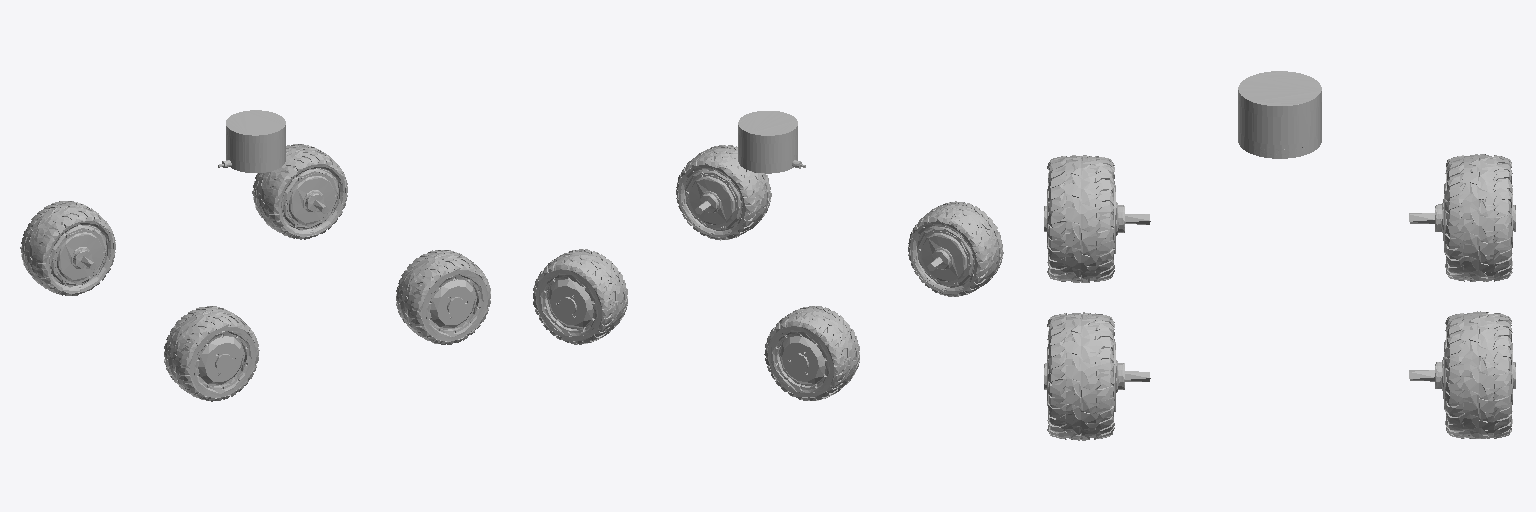
The robot description file, URDF, robot "scout_mini":
<?xml version="1.0"?>
<!-- =================================================================================== -->
<!-- |    This document was autogenerated by xacro from mini.xacro                     | -->
<!-- |    EDITING THIS FILE BY HAND IS NOT RECOMMENDED                                 | -->
<!-- =================================================================================== -->
<robot name="scout_mini" xmlns:xacro="http://www.ros.org/wiki/xacro">
  
   <link name="base_footprint"/>
   <joint name="base_footprint_joint" type="fixed">
    <parent link="base_footprint"/>
    <child link="base_link"/>
    <origin xyz="0.0 0.0 0.08" rpy="0 0 0"/>
  </joint>
  <link name="base_link">
    <visual>
      <origin rpy="1.57 0 1.57" xyz="0 0 0.0"/>
      <geometry>
        <mesh filename="package://scout_simulation/robots/scout_mini/meshes/scout_mini_base_link.dae"/>
      </geometry>
    </visual>
    <collision>
      <origin rpy="1.57 0 1.57" xyz="0 0 0"/>
      <geometry>
        <mesh filename="package://scout_simulation/robots/scout_mini/meshes/scout_mini_base_link.dae"/>
      </geometry>
    </collision>
  </link>
  
  <link name="inertial_link">
    <inertial>
      <mass value="60"/>
      <origin xyz="0.0 0.0 0.0"/>
      <inertia ixx="2.288641" ixy="0" ixz="0" iyy="5.103976" iyz="0" izz="3.431465"/>
    </inertial>
  </link>
  <joint name="inertial_joint" type="fixed">
    <origin rpy="0 0 0" xyz="0 0 0"/>
    <parent link="base_link"/>
    <child link="inertial_link"/>
  </joint>
  
  <link name="front_left_wheel_link">
    <inertial>
      <mass value="3"/>
      <origin xyz="0 0 0"/>
      <inertia ixx="0.7171" ixy="0" ixz="0" iyy="0.7171" iyz="0" izz="0.1361"/>
    </inertial>
    <visual>
      <origin rpy="0 0 0" xyz="0 0 0"/>
      <geometry>
        <mesh filename="package://scout_simulation/robots/scout_mini/meshes/wheel.STL"/>
      </geometry>
      <material name="">
        <color
          rgba="0.75294 0.75294 0.75294 1" />
      </material>
    </visual>
    <collision>
      <origin rpy="0 0 0" xyz="0 0 0"/>
      <geometry>
        <mesh filename="package://scout_simulation/robots/scout_mini/meshes/wheel.STL"/>
      </geometry>
    </collision>
  </link>
  
  <joint name="front_left_wheel" type="fixed">
    <parent link="base_link"/>
    <child link="front_left_wheel_link"/>
    <origin rpy="-1.57 0 0" xyz="0.2319755 0.2082515 -0.100998"/>
    <axis rpy="0 0 0" xyz="0 0 -1"/>
  </joint>
  
  
  <link name="rear_left_wheel_link">
    <inertial>
      <mass value="3"/>
      <origin xyz="0 0 0"/>
      <inertia ixx="0.7171" ixy="0" ixz="0" iyy="0.7171" iyz="0" izz="0.1361"/>
    </inertial>
    <visual>
      <origin rpy="0 0 0" xyz="0 0 0"/>
      <geometry>
        <mesh filename="package://scout_simulation/robots/scout_mini/meshes/wheel.STL"/>
      </geometry>
      <material name="">
        <color
          rgba="0.75294 0.75294 0.75294 1" />
      </material>
    </visual>
    <collision>
      <origin rpy="0 0 0" xyz="0 0 0"/>
      <geometry>
        <mesh filename="package://scout_simulation/robots/scout_mini/meshes/wheel.STL"/>
      </geometry>
    </collision>
  </link>
  
  <joint name="rear_left_wheel" type="fixed">
    <parent link="base_link"/>
    <child link="rear_left_wheel_link"/>
    <origin rpy="-1.57 0 0" xyz="-0.2319755 0.2082515 -0.100998"/>
    <axis rpy="0 0 0" xyz="0 0 -1"/>
  </joint>
  <link name="front_right_wheel_link">
    <inertial>
      <mass value="3"/>
      <origin xyz="0 0 0"/>
      <inertia ixx="0.7171" ixy="0" ixz="0" iyy="0.7171" iyz="0" izz="0.1361"/>
    </inertial>
    <visual>
      <origin rpy="0 0 0" xyz="0 0 0"/>
      <geometry>
        <mesh filename="package://scout_simulation/robots/scout_mini/meshes/wheel.STL"/>
      </geometry>
      <material name="">
        <color
          rgba="0.75294 0.75294 0.75294 1" />
      </material>
    </visual>
    <collision>
      <origin rpy="0 0 0" xyz="0 0 0"/>
      <geometry>
        <mesh filename="package://scout_simulation/robots/scout_mini/meshes/wheel.STL"/>
      </geometry>
    </collision>
  </link>
  <joint name="front_right_wheel" type="fixed">
    <parent link="base_link"/>
    <child link="front_right_wheel_link"/>
    <origin rpy="1.57 0 0" xyz="0.2319755 -0.2082515 -0.099998"/>
    <axis rpy="0 0 0" xyz="0 0 -1"/>
  </joint>
  <link name="rear_right_wheel_link">
    <inertial>
      <mass value="3"/>
      <origin xyz="0 0 0"/>
      <inertia ixx="0.7171" ixy="0" ixz="0" iyy="0.7171" iyz="0" izz="0.1361"/>
    </inertial>
    <visual>
      <origin rpy="0 0 0" xyz="0 0 0"/>
      <geometry>
        <mesh filename="package://scout_simulation/robots/scout_mini/meshes/wheel.STL"/>
      </geometry>
      <material name="">
        <color
          rgba="0.75294 0.75294 0.75294 1" />
      </material>
    </visual>
    <collision>
      <origin rpy="0 0 0" xyz="0 0 0"/>
      <geometry>
        <mesh filename="package://scout_simulation/robots/scout_mini/meshes/wheel.STL"/>
      </geometry>
    </collision>
  </link>
  <joint name="rear_right_wheel" type="fixed">
    <parent link="base_link"/>
    <child link="rear_right_wheel_link"/>
    <origin rpy="1.57 0 0" xyz="-0.2319755 -0.2082515 -0.099998"/>
    <axis rpy="0 0 0" xyz="0 0 -1"/>
  </joint>


  <gazebo reference="front_left_wheel_link">
    <material>Gazebo/Grey</material>
    <mu1>0.0</mu1>
    <mu2>0.0</mu2>
  </gazebo>

  <gazebo reference="front_right_wheel_link">
    <material>Gazebo/Grey</material>
    <mu1>0.0</mu1>
    <mu2>0.0</mu2>
  </gazebo>

  <gazebo reference="rear_left_wheel_link">
    <material>Gazebo/Grey</material>
    <mu1>0.0</mu1>
    <mu2>0.0</mu2>
  </gazebo>

  <gazebo reference="rear_right_wheel_link">
    <material>Gazebo/Grey</material>
    <mu1>0.0</mu1>
    <mu2>0.0</mu2>
  </gazebo>
  
    
  <gazebo reference="base_scan">
    <material>Gazebo/Grey</material>
    <mu1>0.0</mu1>
    <mu2>0.0</mu2>
  </gazebo>

  <joint
    name="base_imu_joint"
    type="fixed">
    <origin
      xyz="0 0 0.0"
      rpy="0 0 0" />
    <parent
      link="base_link" />
    <child
      link="imu_link" />
    <axis
      xyz="0 0 0" />
  </joint>
  
  <link name="imu_link"/>
  
  <gazebo>
    <plugin name="object_controller" filename="libgazebo_ros_planar_move.so">
      <commandTopic>cmd_vel</commandTopic>
      <odometryTopic>odom</odometryTopic>
      <odometryFrame>odom</odometryFrame>
      <odometryRate>20.0</odometryRate>
      <robotBaseFrame>base_link</robotBaseFrame>
    </plugin>
  </gazebo>
  
  <gazebo reference="imu_link">
    <gravity>true</gravity>
    <sensor name="imu_sensor" type="imu">
      <always_on>true</always_on>
      <update_rate>200</update_rate>
      <imu>
          <angular_velocity>
            <x>
              <noise type="gaussian">
                <mean>0.0</mean>
                <stddev>2e-4</stddev>
              </noise>
            </x>
            <y>
              <noise type="gaussian">
                <mean>0.0</mean>
                <stddev>2e-4</stddev>
              </noise>
            </y>
            <z>
              <noise type="gaussian">
                <mean>0.0</mean>
                <stddev>2e-4</stddev>
              </noise>
            </z>
          </angular_velocity>
          <linear_acceleration>
            <x>
              <noise type="gaussian">
                <mean>0.0</mean>
                <stddev>1.7e-2</stddev>
              </noise>
            </x>
            <y>
              <noise type="gaussian">
                <mean>0.0</mean>
                <stddev>1.7e-2</stddev>
              </noise>
            </y>
            <z>
              <noise type="gaussian">
                <mean>0.0</mean>
                <stddev>1.7e-2</stddev>
              </noise>
            </z>
          </linear_acceleration>
      </imu>
      <visualize>true</visualize>
      <plugin name="imu" filename="libgazebo_ros_imu_sensor.so">
        <ros>
          <remapping>~/out:=imu</remapping>
        </ros>
        <frameName>imu_link</frameName>
        <initialOrientationAsReference>false</initialOrientationAsReference>
      </plugin>
      <pose>0 0 0 0 0 </pose>
    </sensor>
  </gazebo>


  <link
    name="base_scan">
    <inertial>
      <origin
        xyz="0 0 0.0"
        rpy="0 0 0" />
      <mass
        value="0.0001" />
      <inertia
        ixx="0.00014024"
        ixy="0"
        ixz="0"
        iyy="0.00013729"
        iyz="0"
        izz="9.3124E-05" />
    </inertial>
    <visual>
      <origin
        xyz="0 0 0"
        rpy="0 0 0" />
      <geometry>
        <mesh
          filename="package://scout_simulation/robots/scout_mini/meshes/velodyne.STL" />
      </geometry>
      <material
        name="">
        <color
          rgba="0.75294 0.75294 0.75294 1" />
      </material>
    </visual>
    <collision>
      <origin
        xyz="0 0 0"
        rpy="0 0 0" />
      <geometry>
        <mesh
          filename="package://scout_simulation/robots/scout_mini/meshes/velodyne.STL" />
      </geometry>
    </collision>
  </link>
  
  <joint
    name="base_scan_joint"
    type="fixed">
    <origin
      xyz="0.0 0 0.15"
      rpy="0 0 0" />
    <parent
      link="base_link" />
    <child
      link="base_scan" />
    <axis
      xyz="0 0 0" />
  </joint>

  <gazebo reference="base_scan">
    <sensor name='velodyne-VLP16' type='ray'>
      <visualize>0</visualize>
        <update_rate>10</update_rate>
          <ray>
            <scan>
            <horizontal>
              <samples>360</samples>
              <resolution>1</resolution>
              <min_angle>-3.14</min_angle>
              <max_angle>3.14</max_angle>
            </horizontal>
            <vertical>
              <samples>16</samples>
              <resolution>1</resolution>
              <min_angle>-0.261799</min_angle>
              <max_angle>0.261799</max_angle>
            </vertical>
          </scan>
          <range>
            <min>0.3</min>
            <max>131</max>
            <resolution>0.001</resolution>
          </range>
          <noise>
            <type>gaussian</type>
            <mean>0</mean>
            <stddev>0</stddev>
          </noise>
        </ray>
        <plugin name='gazebo_ros_laser_controller' filename='libgazebo_ros_velodyne_laser.so'>
          <topicName>/velodyne_points</topicName>
          <frameName>base_scan</frameName>
          <min_range>0.1</min_range>
          <max_range>130.0</max_range>
          <gaussianNoise>0.008</gaussianNoise>
        </plugin>
        <pose>0.125 0 0.2877 0 -0 0</pose>
      </sensor>
    </gazebo>
  
</robot>

--- What the picture shows (computed from the rendered views, not written in the file) ---
The picture shows the robot from 3 angles, left to right: view 1: azimuth 30°, elevation 25°; view 2: azimuth 150°, elevation 25°; view 3: azimuth 270°, elevation 25°; orthographic projection.
Model scout_mini with 9 links and 8 joints (8 fixed), rooted at base_footprint, posed all joints at 0.
Visible links, largest first — view 1: rear_right_wheel_link, rear_left_wheel_link, front_right_wheel_link, front_left_wheel_link, base_scan; view 2: rear_left_wheel_link, front_left_wheel_link, rear_right_wheel_link, front_right_wheel_link, base_scan; view 3: rear_left_wheel_link, front_left_wheel_link, rear_right_wheel_link, front_right_wheel_link, base_scan.
Link boxes in pixels (x1,y1,x2,y2): rear_right_wheel_link: (164,306,259,401); rear_left_wheel_link: (20,201,115,295); front_right_wheel_link: (396,250,490,344); front_left_wheel_link: (252,144,347,239); base_scan: (218,110,285,172); rear_left_wheel_link: (764,306,859,400); front_left_wheel_link: (533,249,627,344); rear_right_wheel_link: (908,201,1003,296); front_right_wheel_link: (676,145,771,240); base_scan: (738,111,805,173); rear_left_wheel_link: (1409,154,1515,281); front_left_wheel_link: (1409,311,1515,438); rear_right_wheel_link: (1044,155,1150,282); front_right_wheel_link: (1044,312,1150,440); base_scan: (1238,71,1321,158).
Bounding box of the posed robot: 0.6233 × 0.5865 × 0.3673 m (x, y, z).
5 mesh visuals loaded from 3 distinct referenced files (2 binary STL); not drawn: 1 (reference not matched to a file when rendering).
